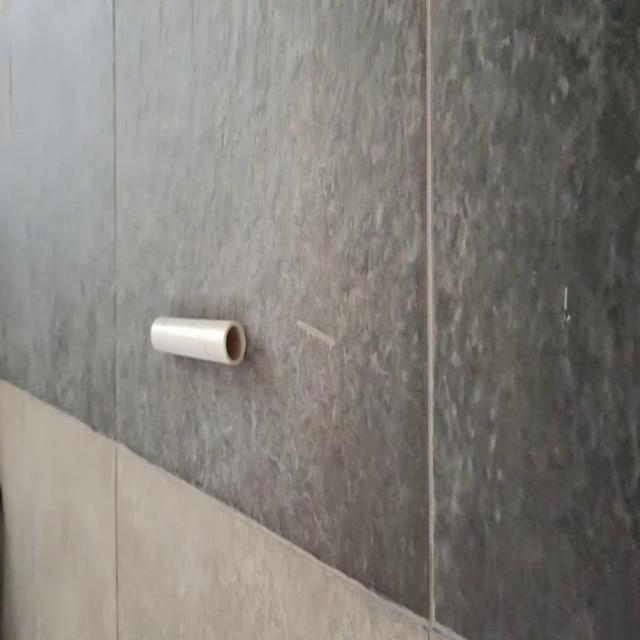Cube: (150, 314, 246, 367)
